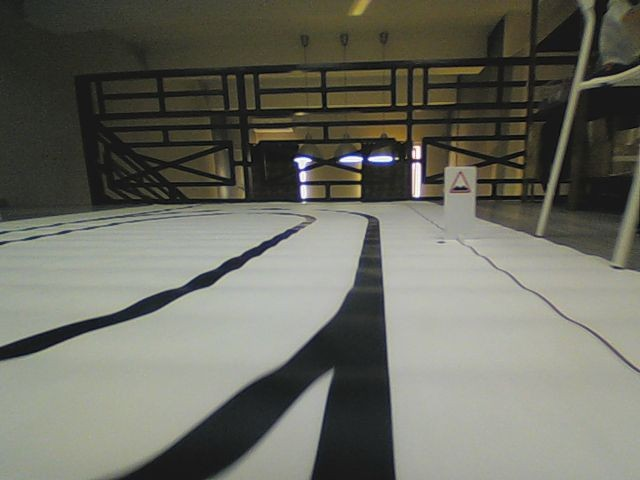Nerov: (448, 170, 472, 194)
